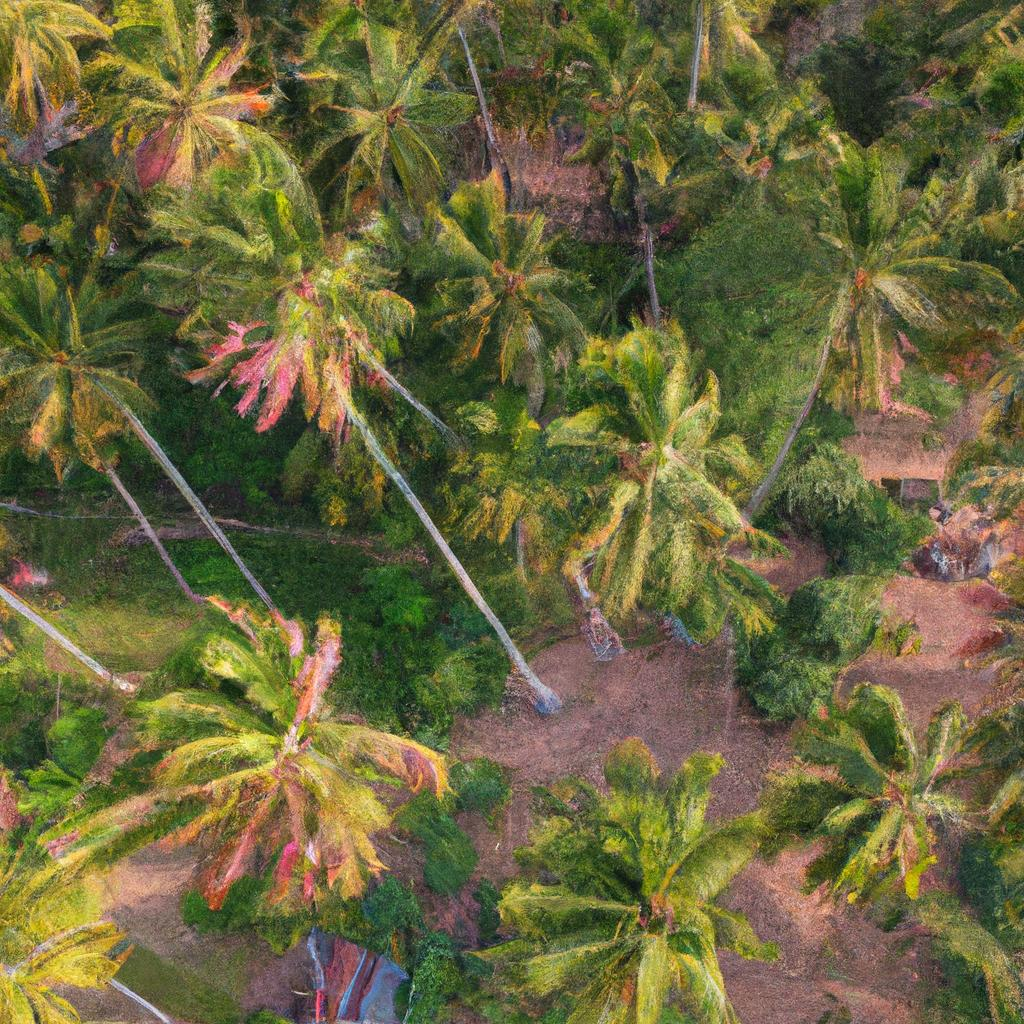coconut_tree: (166, 618, 424, 877), (528, 750, 758, 1023), (180, 191, 424, 426), (553, 367, 770, 626), (797, 721, 976, 886)
